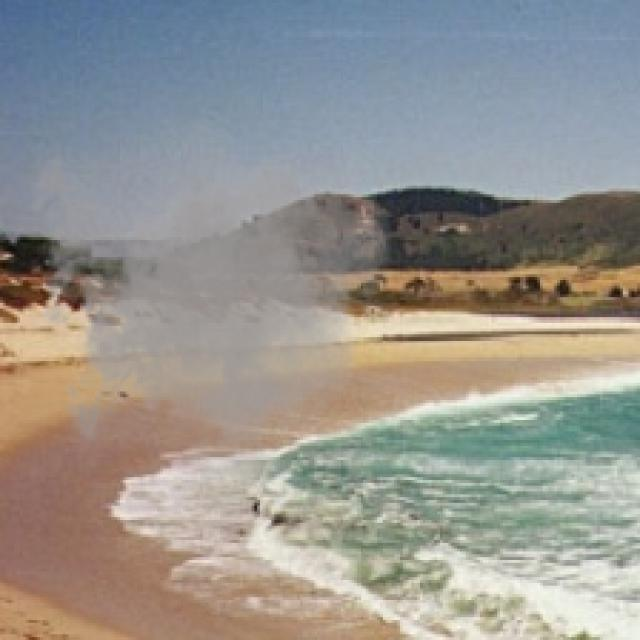Smoke: (20, 97, 397, 500)
